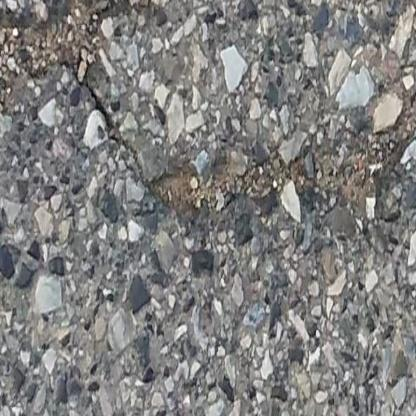Cracks: (0, 0, 416, 237)
